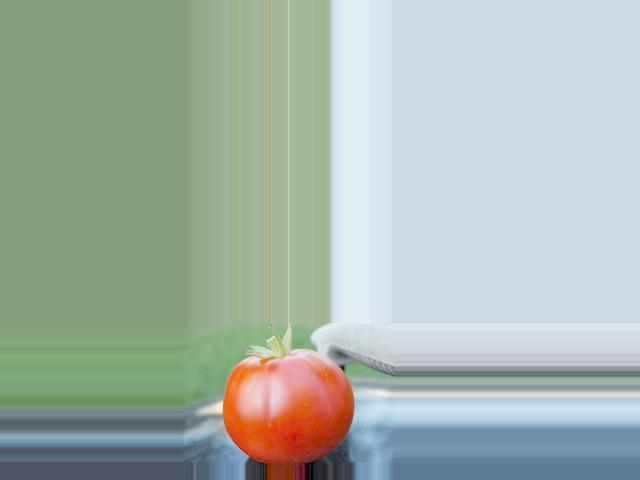tomato: (222, 349, 354, 464)
